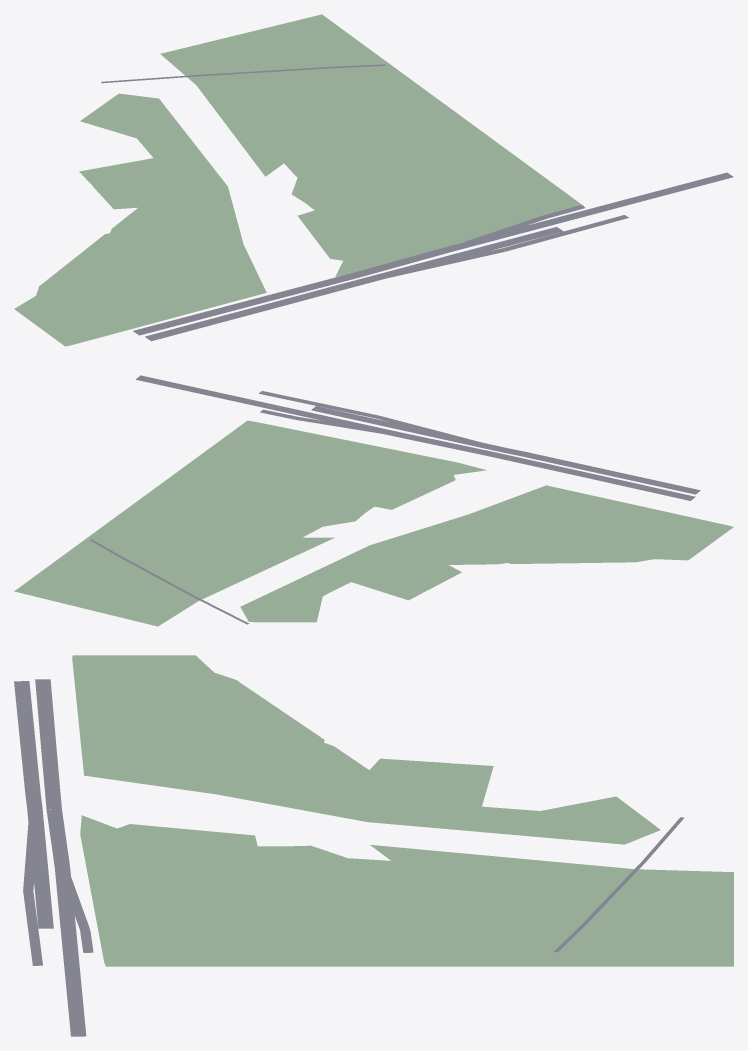
Rendered from 120_128_mid.glb.
3 views of the same model, one above another, from view 1: azimuth 30°, elevation 25°; view 2: azimuth 150°, elevation 25°; view 3: azimuth 270°, elevation 25° (orthographic). The views are drawn at different scales.
Bounding box in the file's own units: 626 × 7.56 × 489.
